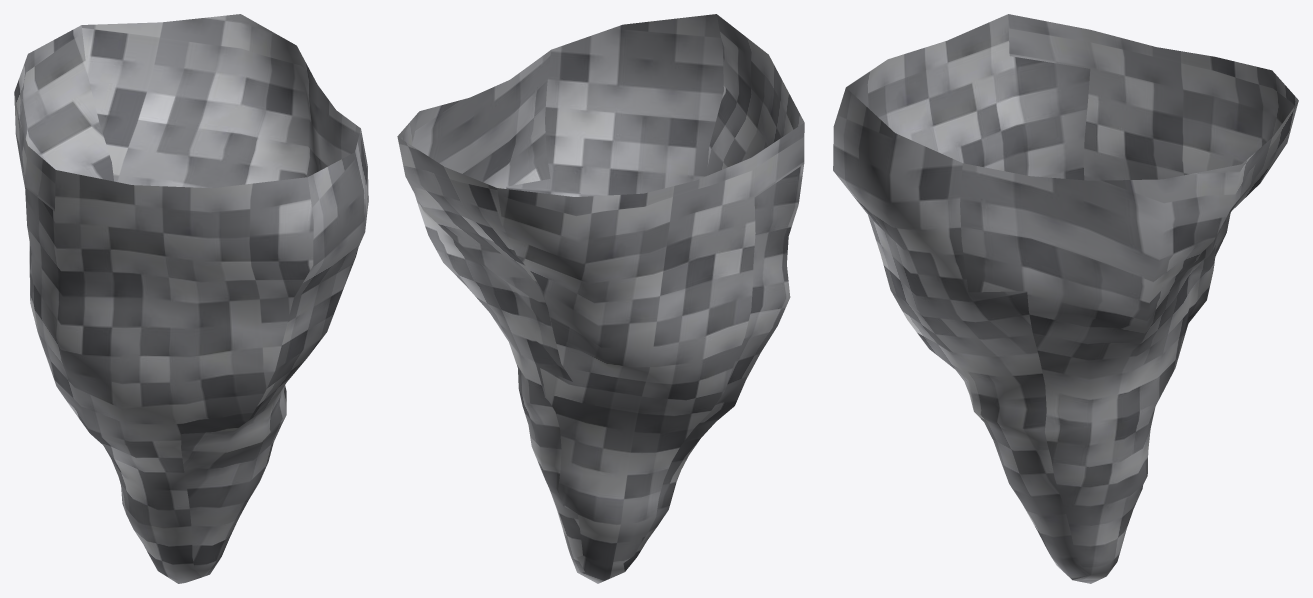
The model's file is Stalactite 03.fbx.
The picture shows the model from 3 angles, left to right: view 1: azimuth 30°, elevation 25°; view 2: azimuth 150°, elevation 25°; view 3: azimuth 270°, elevation 25°; orthographic projection. The views are drawn at different scales.
Parts seen in each view (by area): view 1: Stalactite.003; view 2: Stalactite.003; view 3: Stalactite.003.
Part boxes in pixels (<box>): Stalactite.003: <box>14,14,368,583</box>; Stalactite.003: <box>397,14,804,583</box>; Stalactite.003: <box>833,14,1298,583</box>.
Size of the model in its own units: 1.53 by 1.8 by 1.25.
